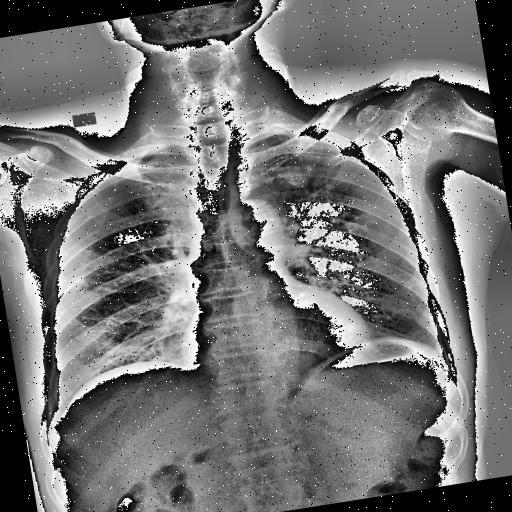13- Pulmonary fibrosis: (303, 167, 346, 203), (328, 209, 378, 234), (326, 196, 362, 226), (57, 271, 101, 295), (328, 200, 358, 226), (64, 274, 88, 288)
7- Lung Opacity: (66, 273, 84, 287)
